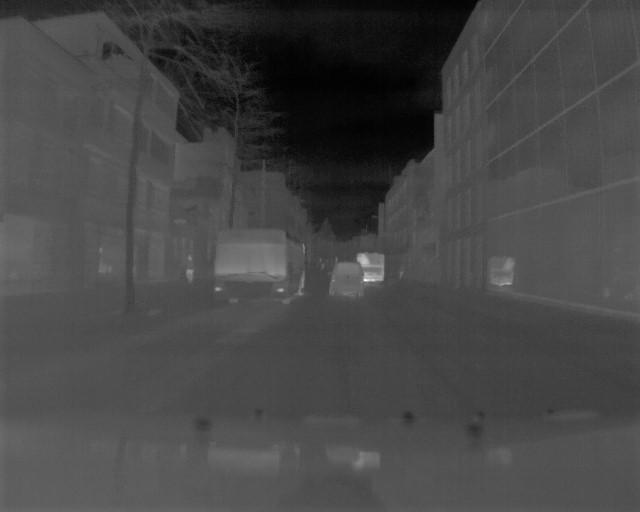car: (213, 231, 307, 313), (327, 257, 363, 303), (361, 250, 388, 284)
person: (184, 250, 198, 290)
